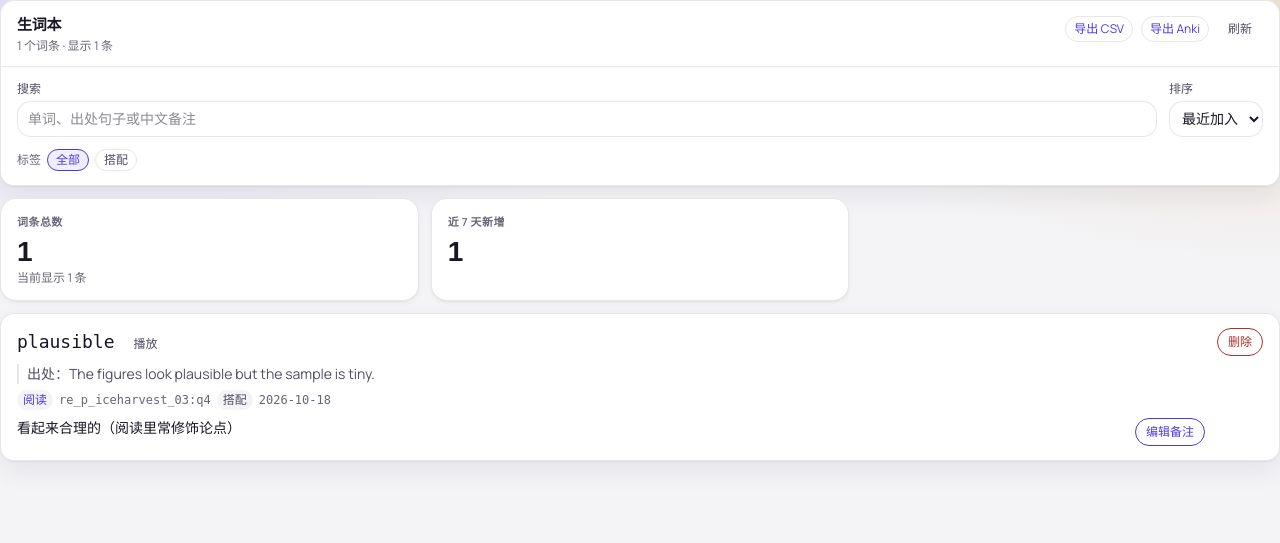
Scenario: AC-V1 备注与删除 › 备注保存失败时错误可见，编辑框不会被悄悄关掉
Expected: the text "plausible" is shown, [17,328,114,356]
Click the button "编辑备注".
click(1170, 432)  # box [1135,418,1205,446]
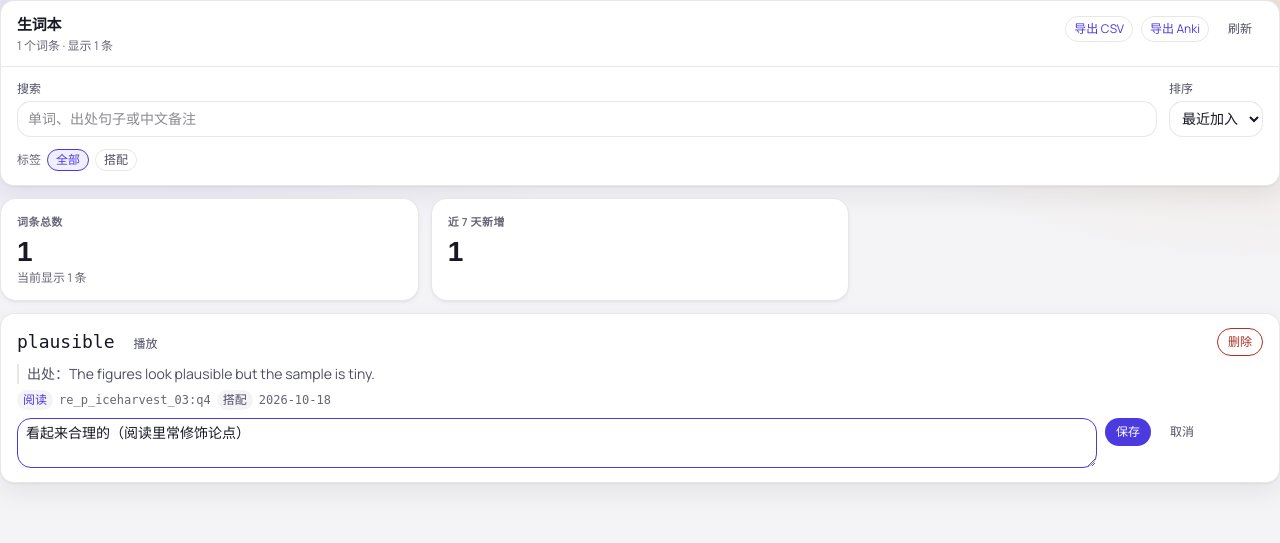
Click the button "保存".
click(1128, 432)  # box [1105,418,1151,446]
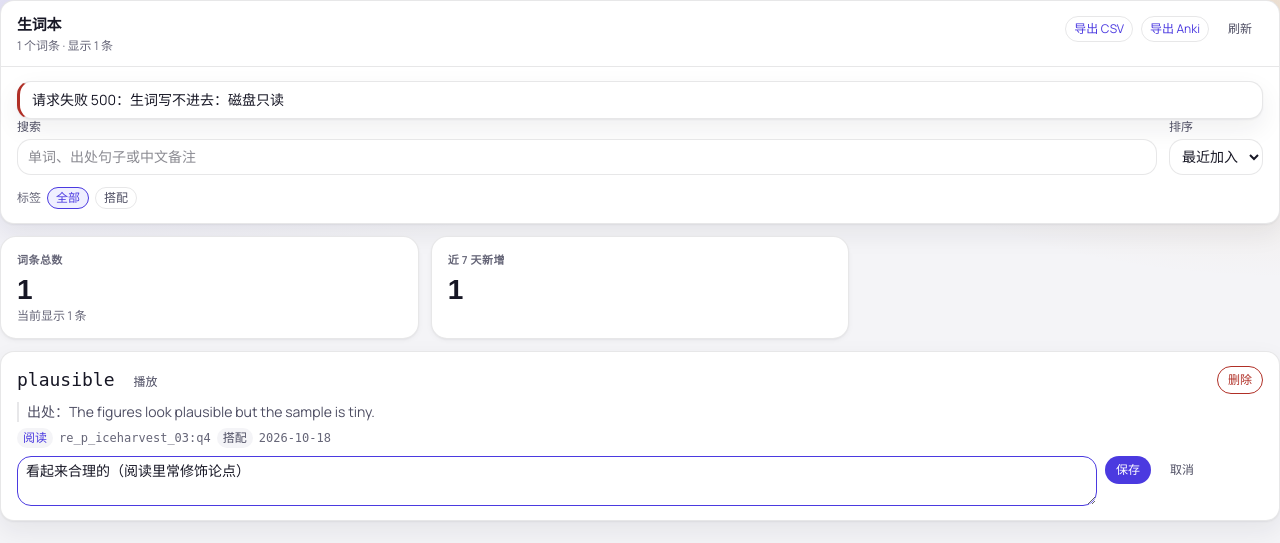
Expected: the text box named "plausible 的中文备注" is shown, [17,456,1097,506]
Expected: the message shows "生词写不进去：磁盘只读", [32,90,284,109]
